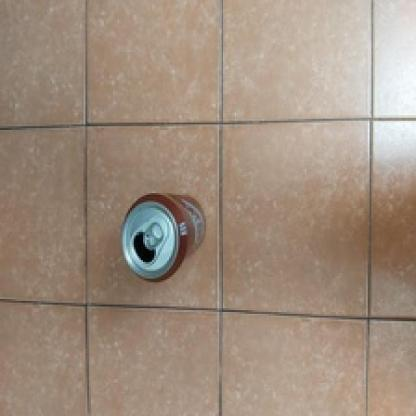Can: (122, 192, 207, 282)
